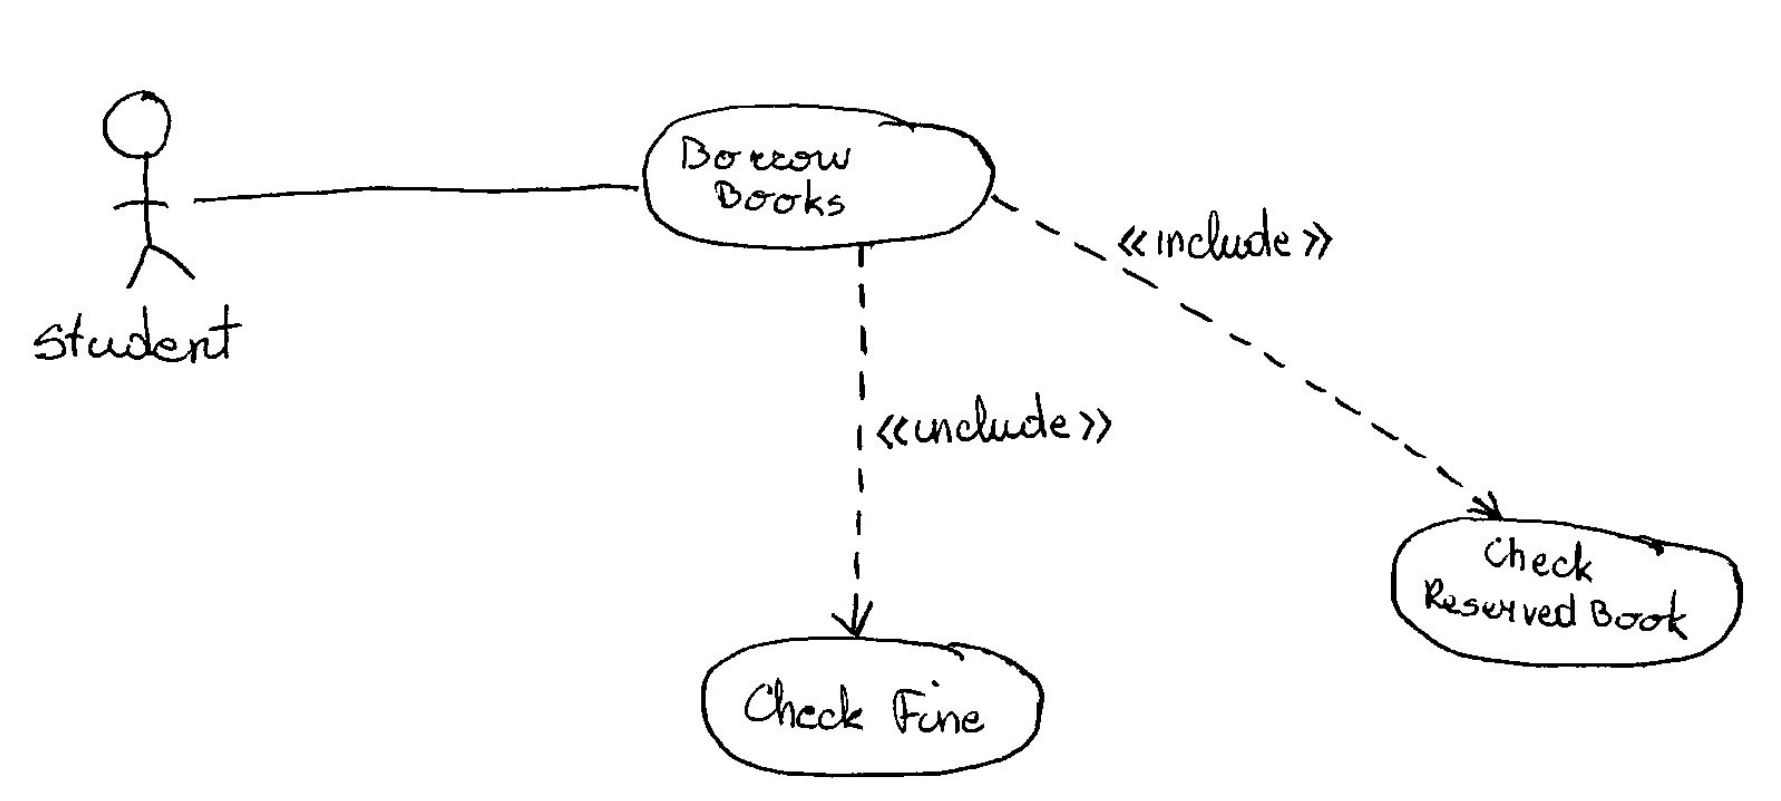actor: (100, 85, 200, 291)
association: (989, 190, 1508, 523), (827, 253, 880, 640), (197, 166, 639, 210)
text: (1414, 534, 1697, 641), (724, 674, 989, 751), (672, 130, 868, 222), (868, 395, 1129, 457), (1114, 210, 1343, 272), (32, 308, 246, 365)
use_case: (1390, 517, 1744, 670), (639, 107, 992, 252), (700, 634, 1045, 778)
